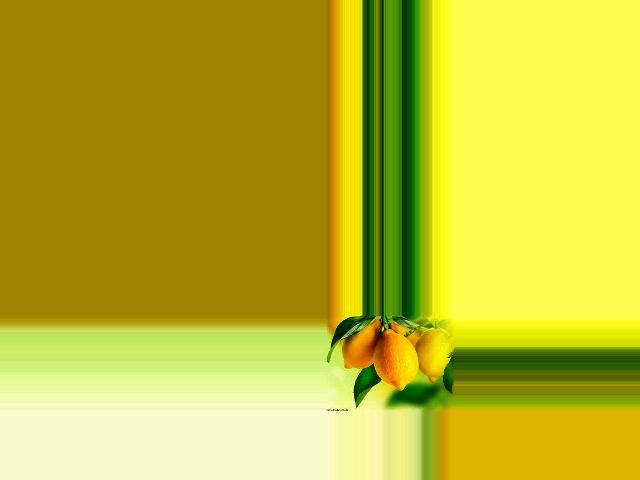lemon: (416, 324, 449, 384)
